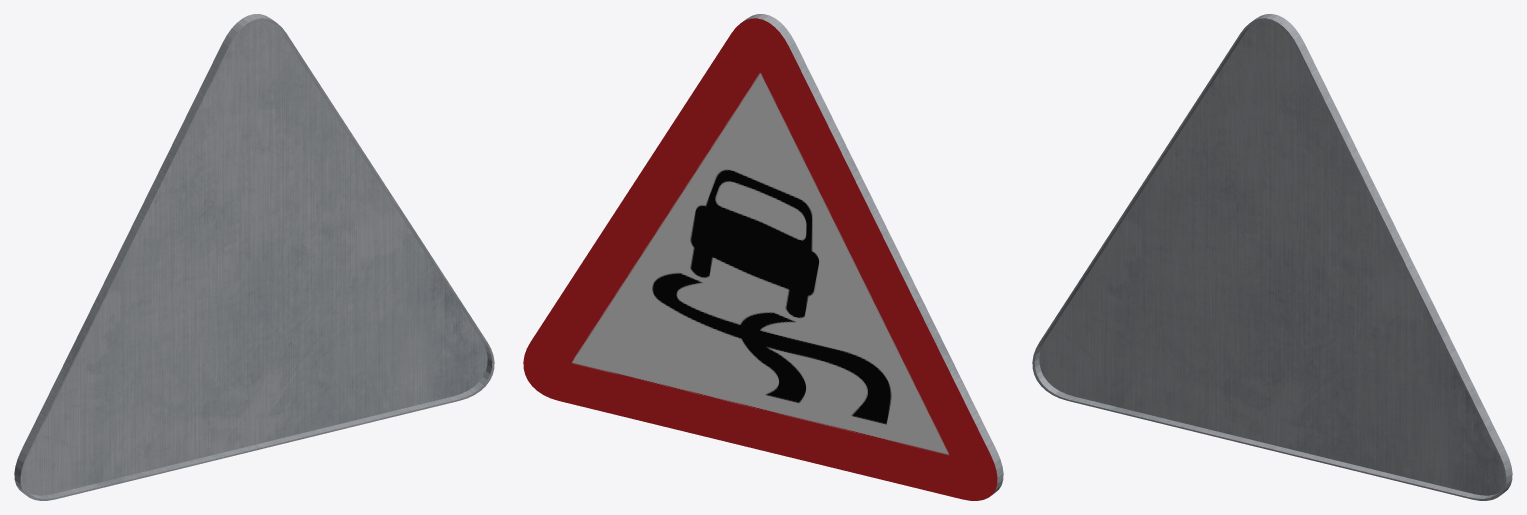
The model's file is Slippery_road.fbx.
3 views of the same model, side by side, from view 1: azimuth 30°, elevation 25°; view 2: azimuth 150°, elevation 25°; view 3: azimuth 330°, elevation 25° (orthographic).
Visible parts, largest first — view 1: Slippery road; view 2: Slippery road; view 3: Slippery road.
Boxes of the visible parts, box(x1,y1,x2,y2) form: Slippery road: box(14, 14, 494, 500); Slippery road: box(523, 14, 1003, 500); Slippery road: box(1032, 14, 1512, 500).
Size of the model in its own units: 0.02 by 0.9002 by 0.7821.
